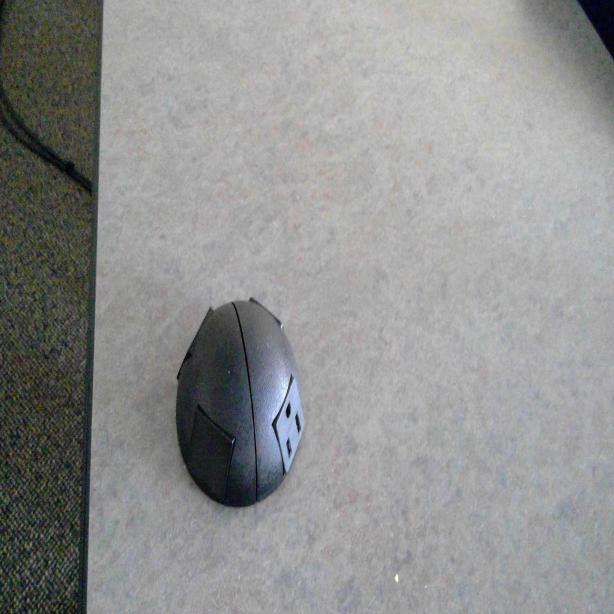typeb: (277, 396, 306, 452)
